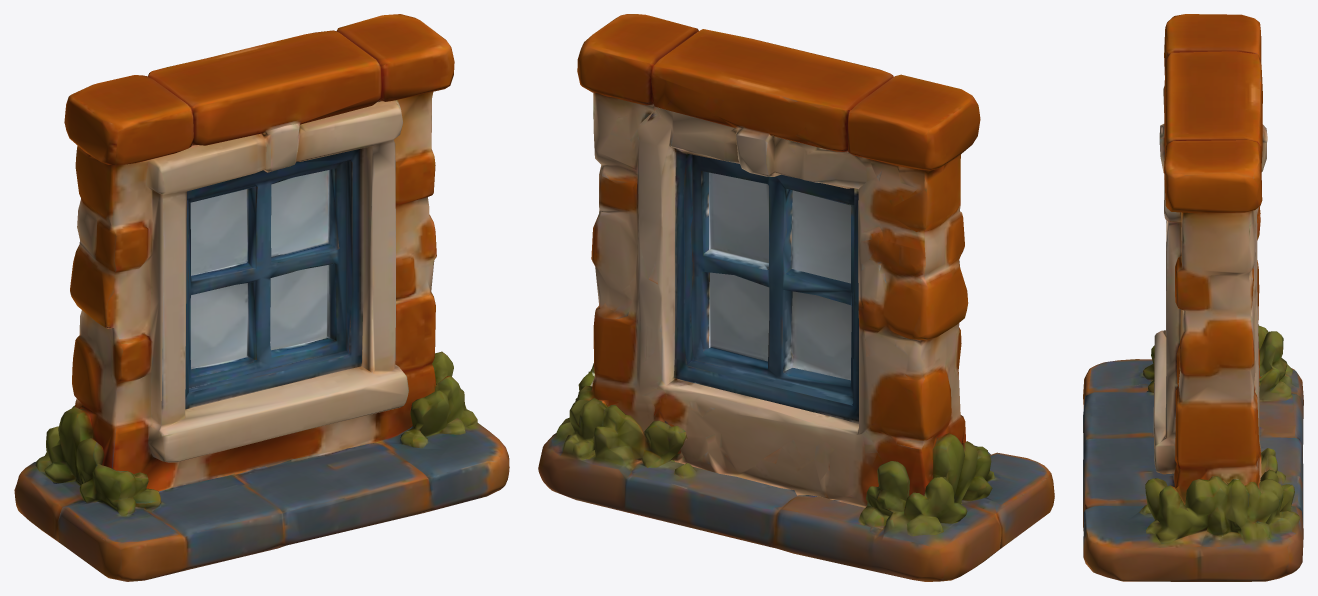
The model's file is mvp-window.glb.
The picture shows the model from 3 angles, left to right: view 1: azimuth 30°, elevation 25°; view 2: azimuth 150°, elevation 25°; view 3: azimuth 270°, elevation 25°; orthographic projection. The views are drawn at different scales.
Visible parts, largest first — view 1: textured_mesh.obj; view 2: textured_mesh.obj; view 3: textured_mesh.obj.
Boxes of the visible parts, x1,y1,x2,y2 form: textured_mesh.obj: (14,14,509,581); textured_mesh.obj: (538,14,1054,581); textured_mesh.obj: (1083,14,1303,581).
Bounding box in the file's own units: 1 × 0.9978 × 0.4946.
1 material, 1 textured.
